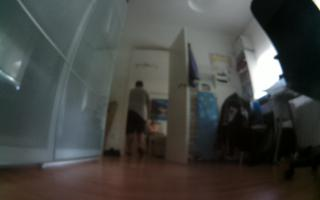person: (125, 79, 151, 161), (146, 119, 164, 162)
